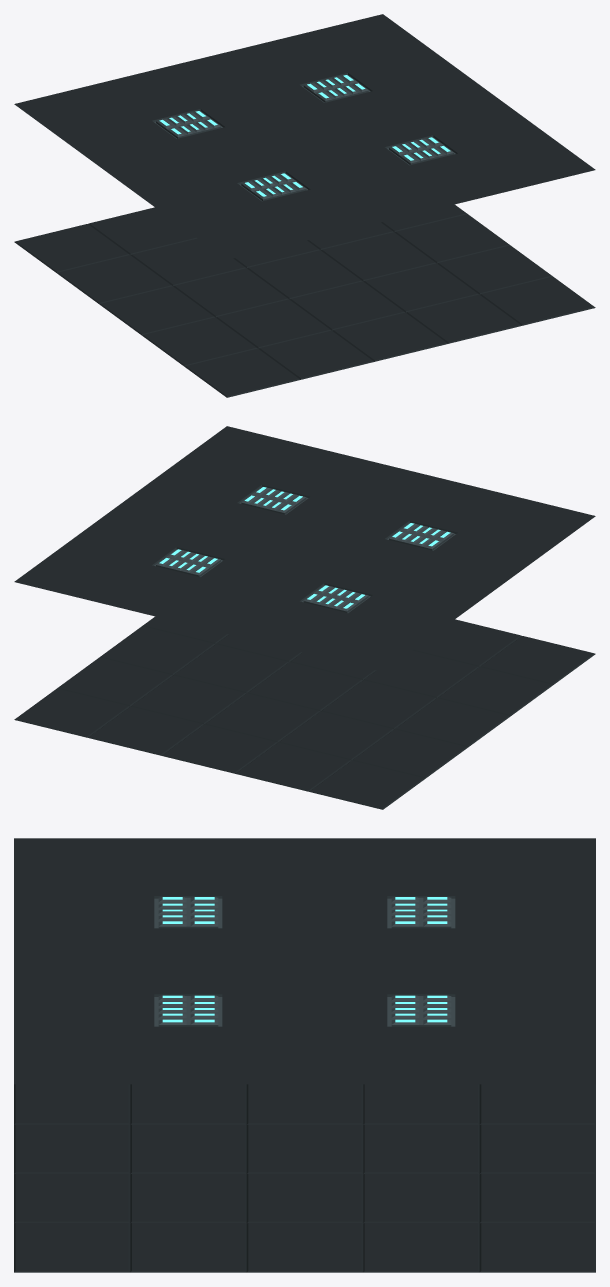
The model's file is hallMid03.fbx.
3 views of the same model, one above another, from view 1: azimuth 30°, elevation 25°; view 2: azimuth 150°, elevation 25°; view 3: azimuth 270°, elevation 25° (orthographic). The views are drawn at different scales.
Visible parts, largest first — view 1: hallMid03; view 2: hallMid03; view 3: hallMid03.
Boxes of the visible parts, x1=… form: hallMid03: x1=14, y1=14, x2=595, y2=397; hallMid03: x1=14, y1=426, x2=595, y2=809; hallMid03: x1=14, y1=838, x2=595, y2=1272.
Size of what is drawn, in the model's own units: 10 by 10 by 3.6.
